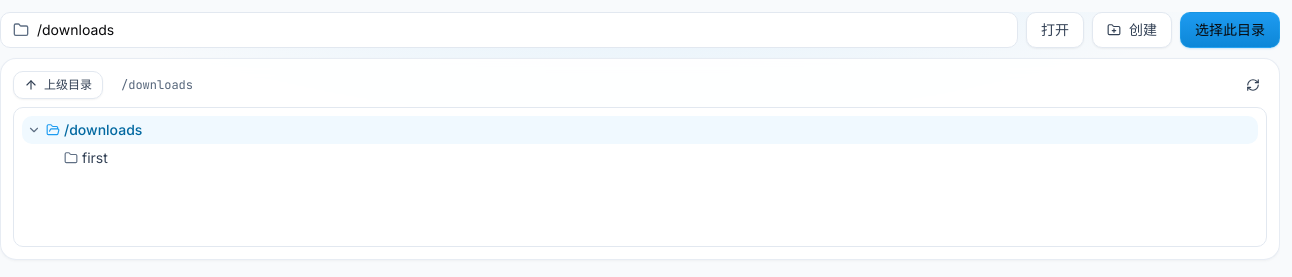
it: shows changed directory entries after refreshing the same path
The width and height of the screenshot is (1292, 277).
Expected: the text "first" is shown, [82, 148, 108, 168]
Click the button named "刷新目录": {"x": 1253, "y": 85} [1239, 71, 1267, 99]
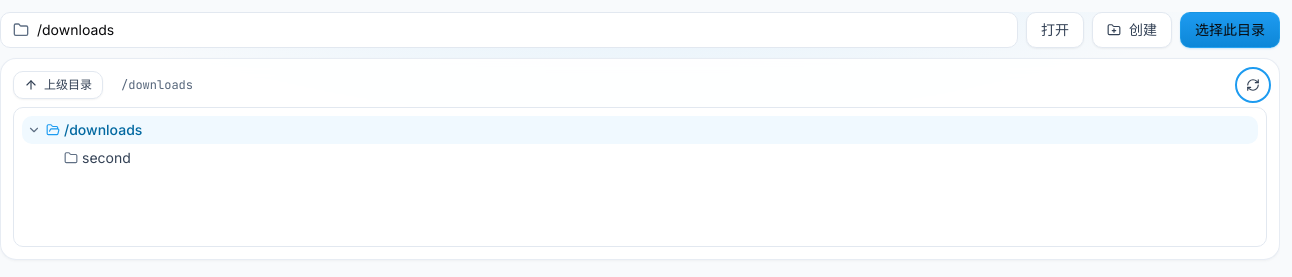
Now the text "second" is shown, box [82, 148, 131, 168]
Now the text "first" is gone
